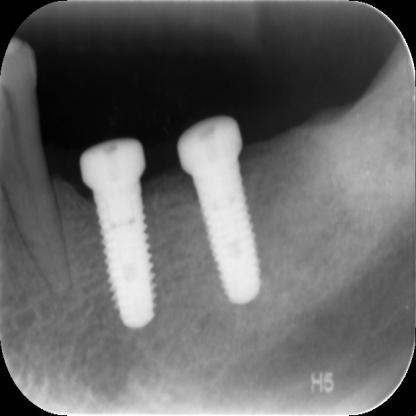Bego: (178, 117, 265, 313), (77, 136, 158, 336)
